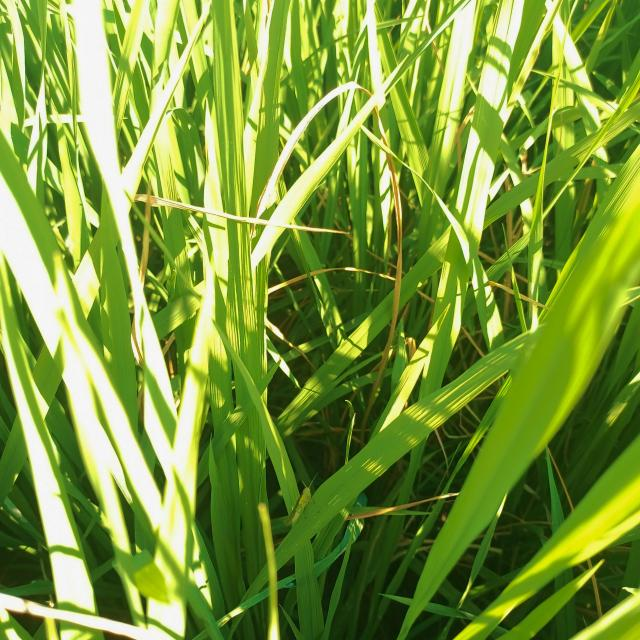belalang pada tanaman padi: (272, 463, 330, 531)
rice leaf roller -penggulung daun padi-: (3, 2, 637, 637)
